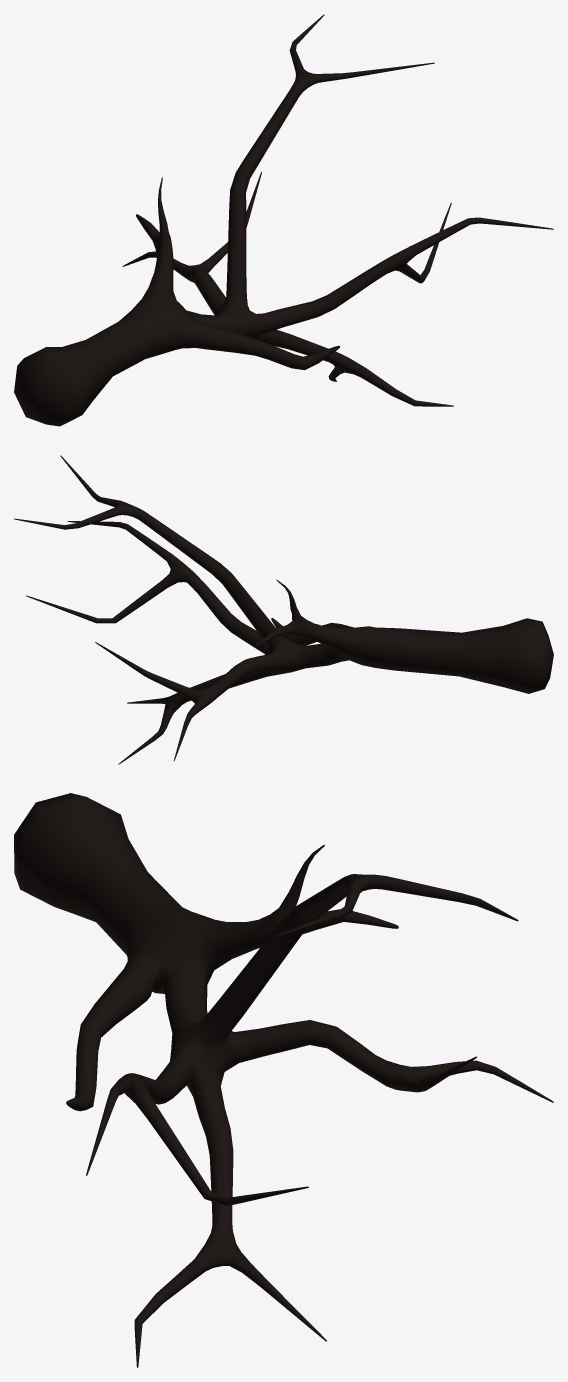
File: fallenTree.fbx
3 views of the same model, one above another, from view 1: azimuth 30°, elevation 25°; view 2: azimuth 150°, elevation 25°; view 3: azimuth 270°, elevation 25° (orthographic). The views are drawn at different scales.
Visible parts, largest first — view 1: leaves.014; view 2: leaves.014; view 3: leaves.014.
Boxes of the visible parts, x1,y1,x2,y2 form: leaves.014: [14, 14, 553, 426]; leaves.014: [14, 455, 553, 764]; leaves.014: [14, 793, 553, 1367].
Size of the model in its own units: 2014 by 1120 by 1179.
